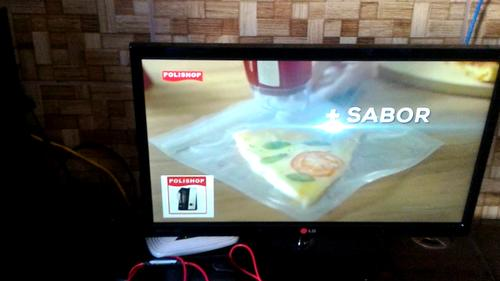Polishop #1: (161, 175, 214, 218)
